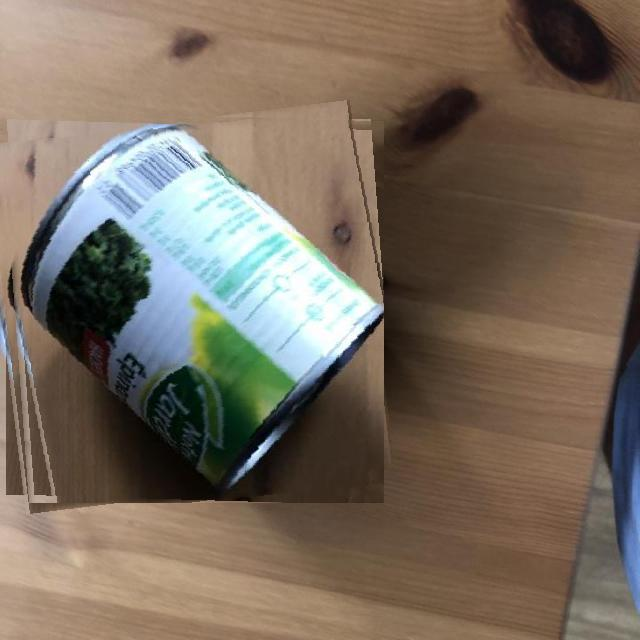recyclable: (0, 110, 384, 503)
